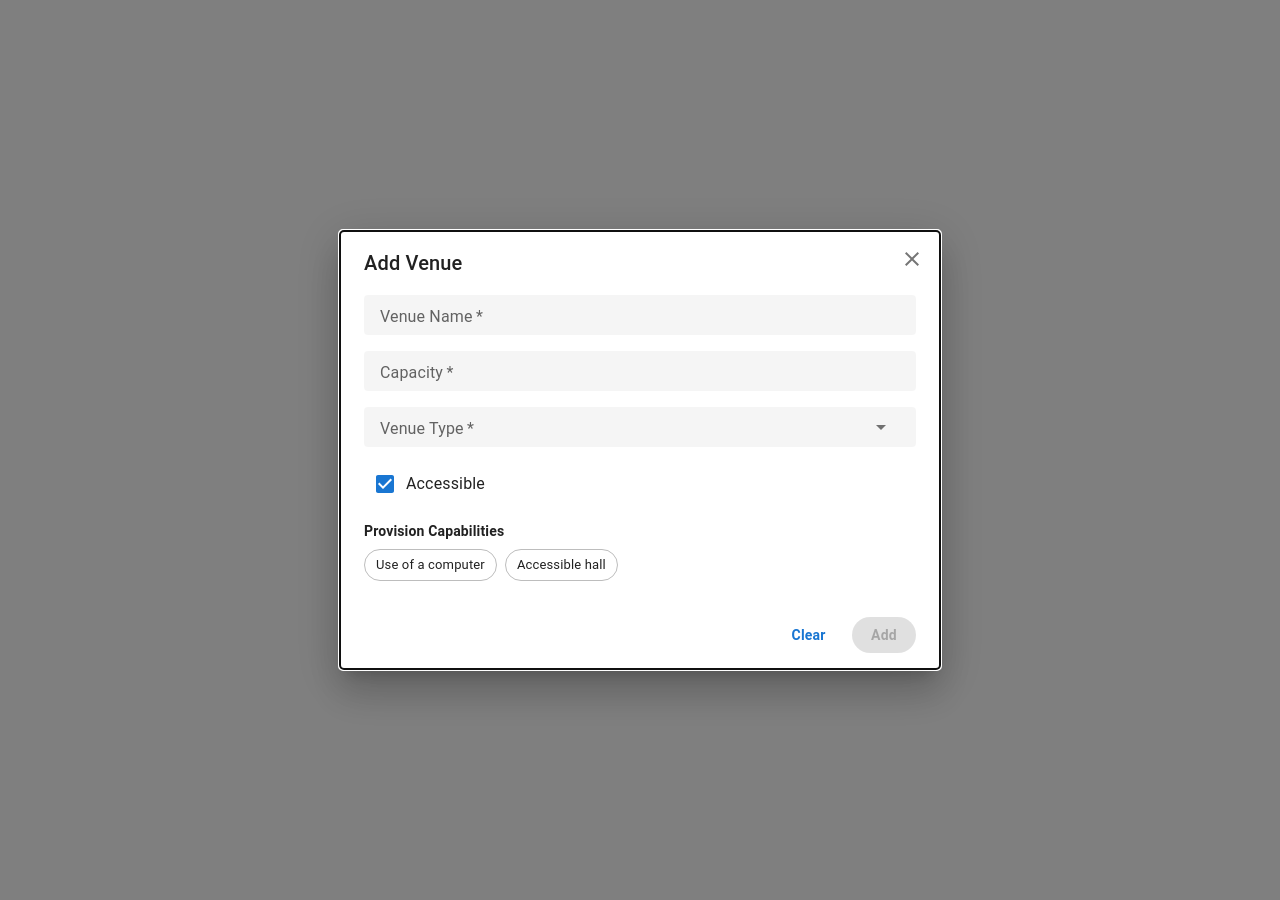
it: Components - AddVenueDialog › disables Add button until mandatory fields are filled
The width and height of the screenshot is (1280, 900).
Expected: the button "Add" is disabled, [852, 617, 916, 653]
Type "Main Hall A" into the field labelled "Venue Name *" at point(640, 315), box [380, 304, 900, 327]
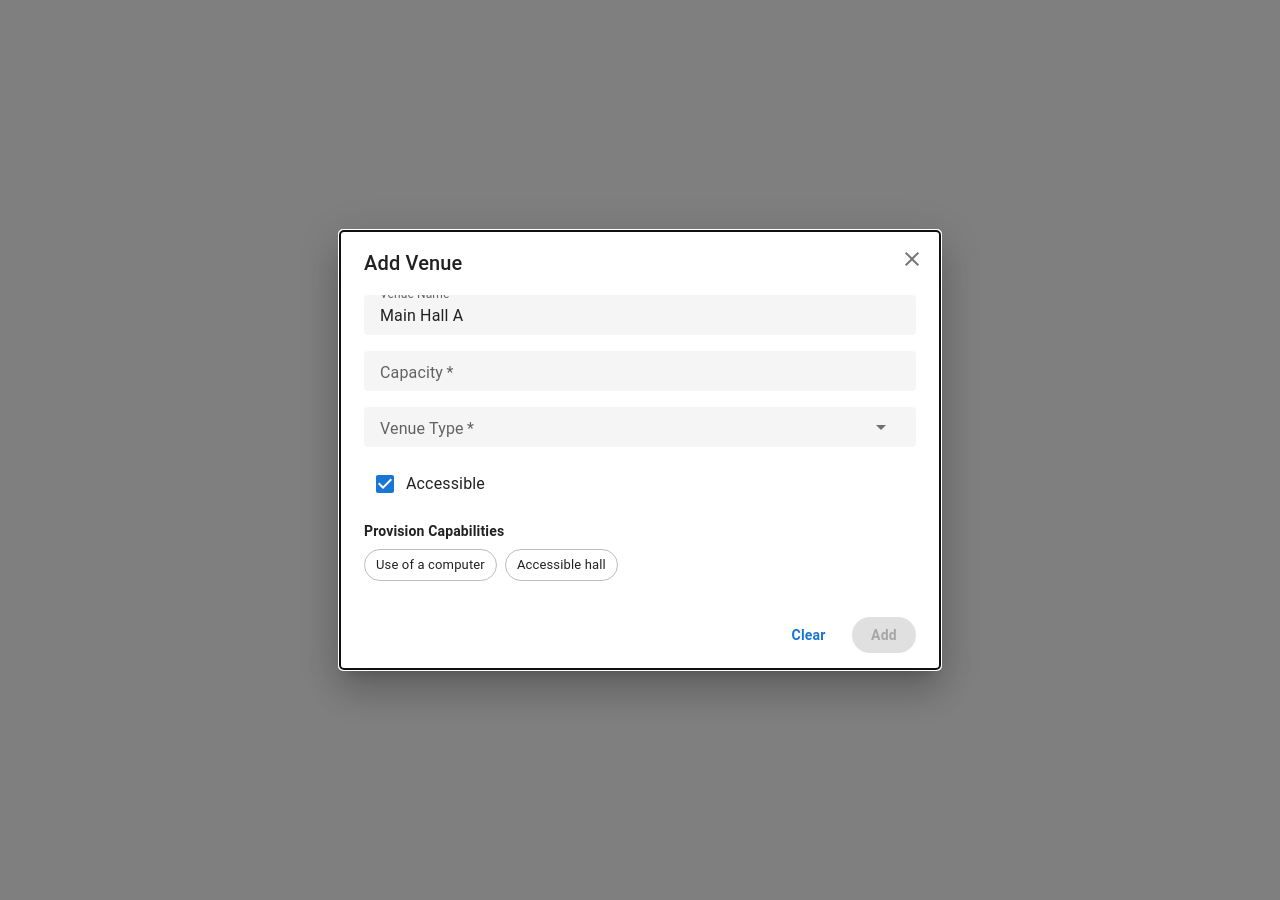
Type "200" into the number field labelled "Capacity *" at point(640, 371), box [380, 360, 900, 383]
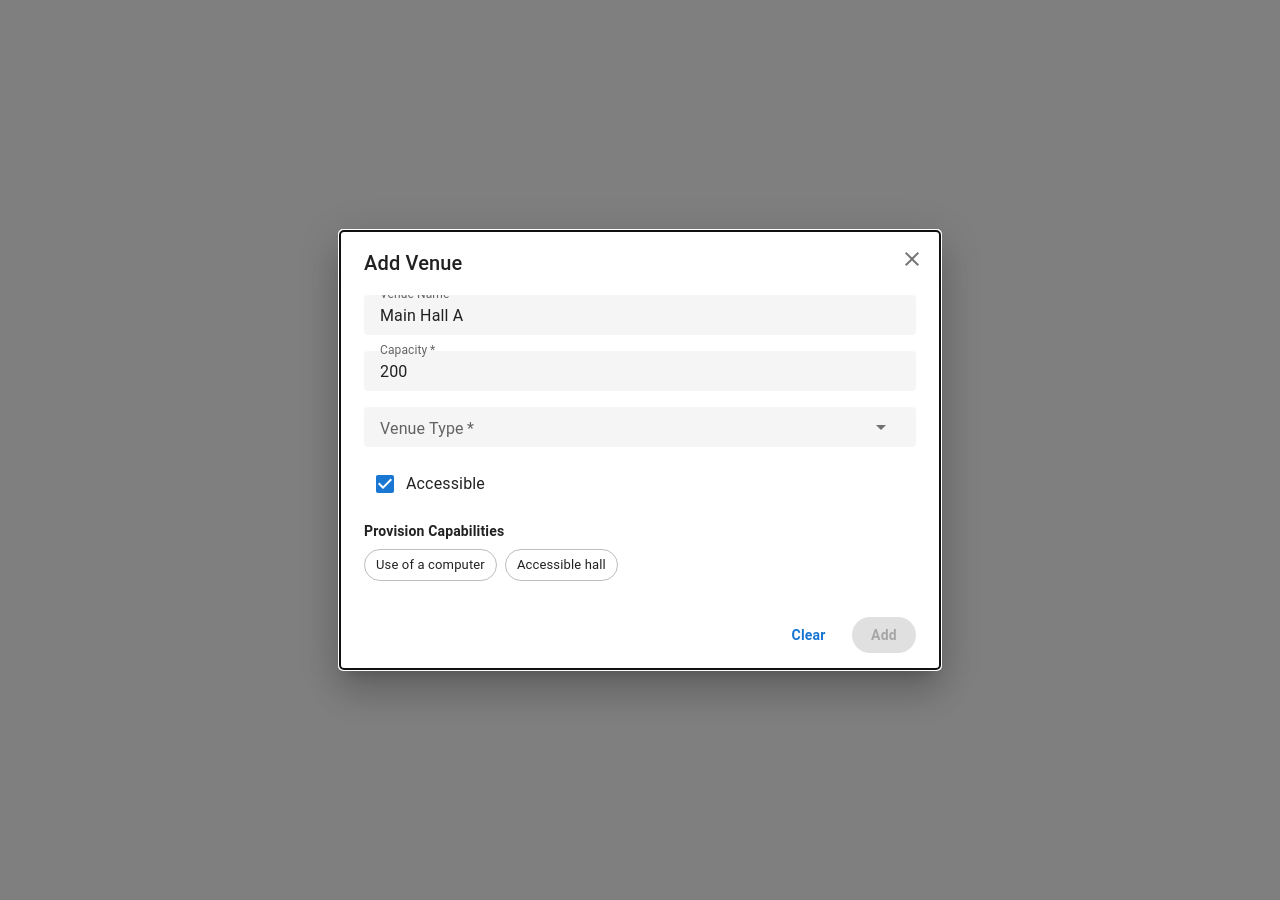
Press the mouse on the dropdown named "venue type" at point(640, 427), box [380, 416, 900, 439]
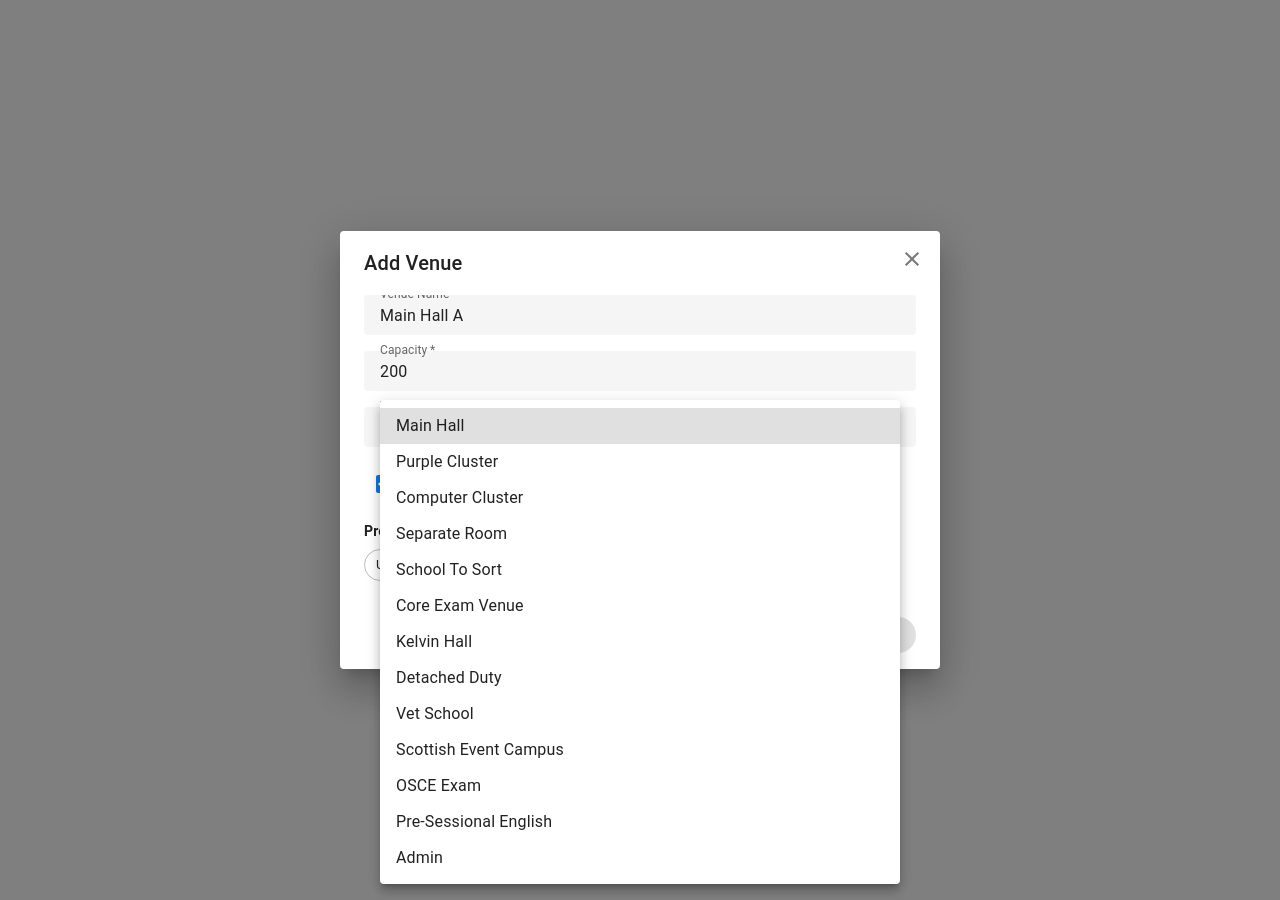
Click the option "Main Hall" at point(430, 426), box [380, 408, 900, 444]
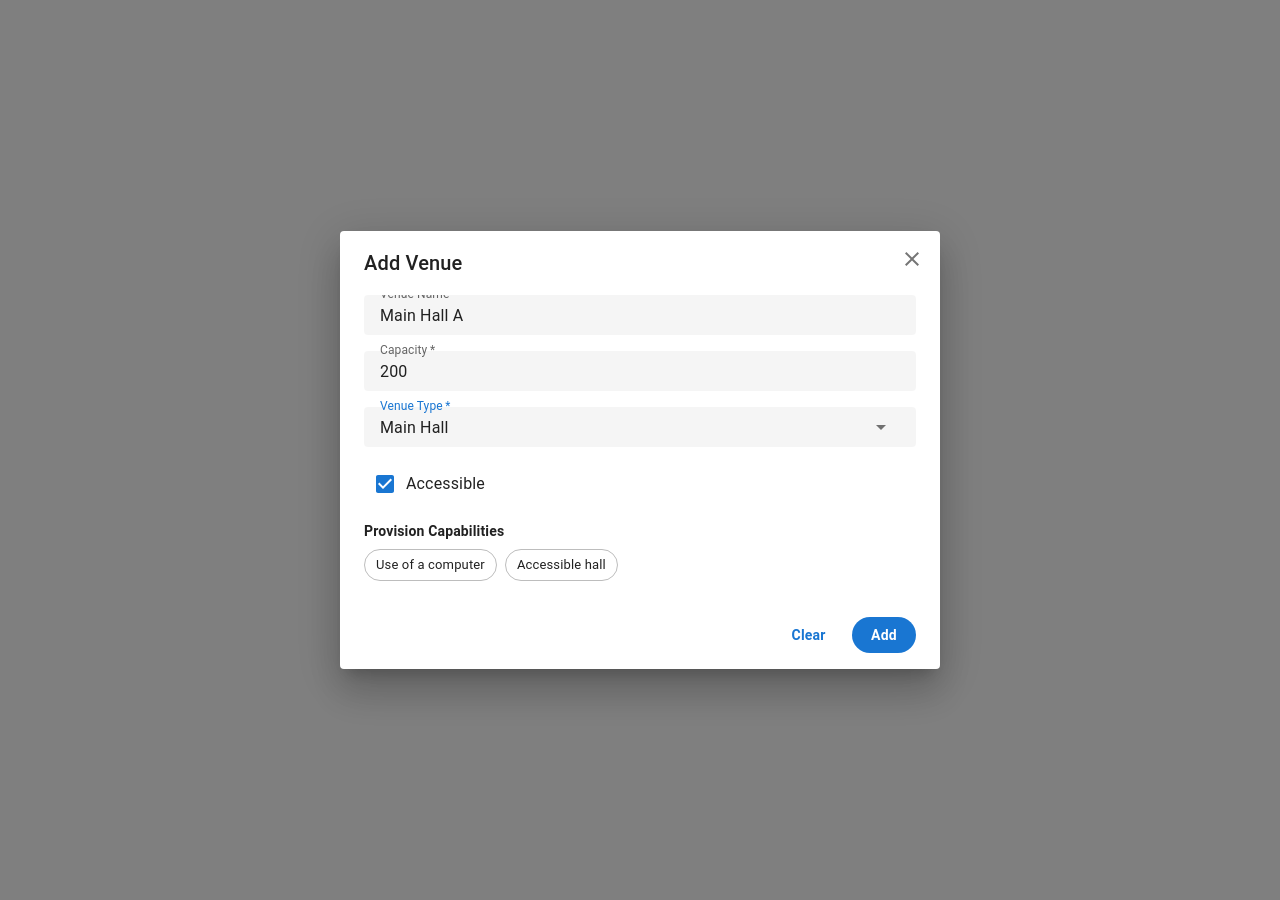
Expected: the button "Add" is enabled, [852, 617, 916, 653]
